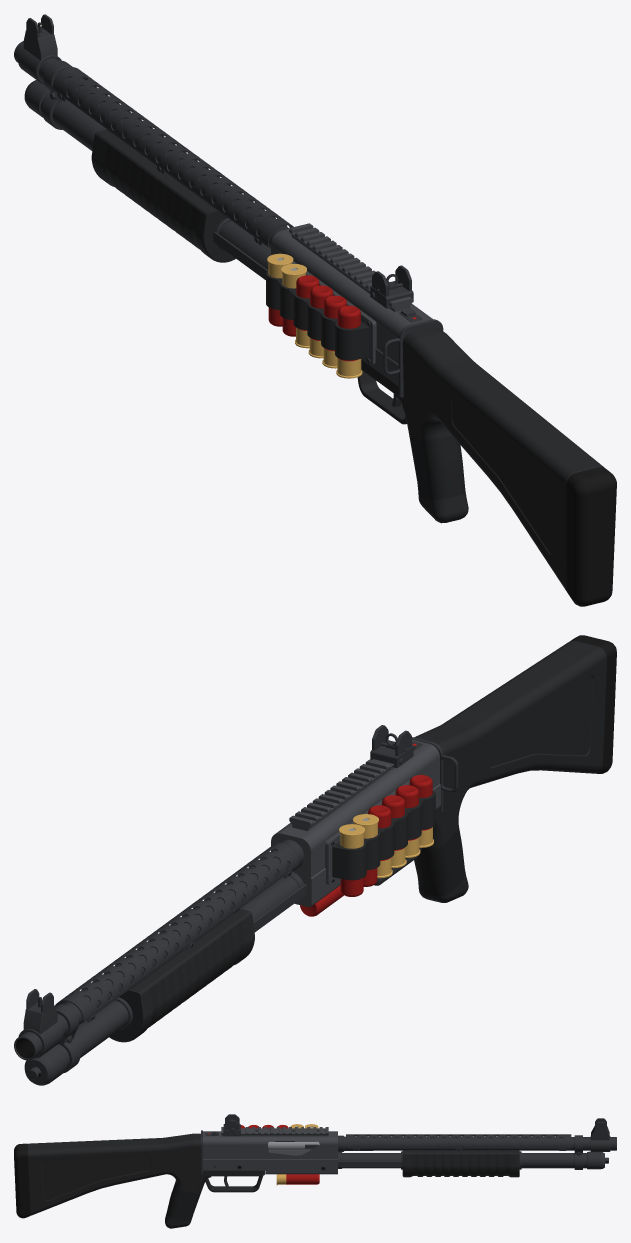
The model's file is shotgun.glb.
3 views of the same model, one above another, from view 1: azimuth 30°, elevation 25°; view 2: azimuth 150°, elevation 25°; view 3: azimuth 270°, elevation 25° (orthographic). The views are drawn at different scales.
Visible parts, largest first — view 1: Body, Pump; view 2: Body, Pump; view 3: Body, Pump, Shell.
Part boxes in pixels (x1,y1,x2,y2): Body: (14,14,616,606); Pump: (91,129,268,279); Body: (14,635,616,1085); Pump: (109,884,306,1042); Body: (14,1114,616,1228); Pump: (338,1150,521,1177); Shell: (276,1174,319,1185).
Size of the model in its own units: 0.0741 by 0.1948 by 0.9796.
